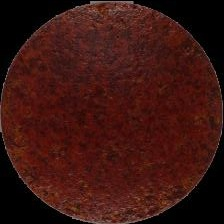42937-702: (0, 0, 224, 224)
